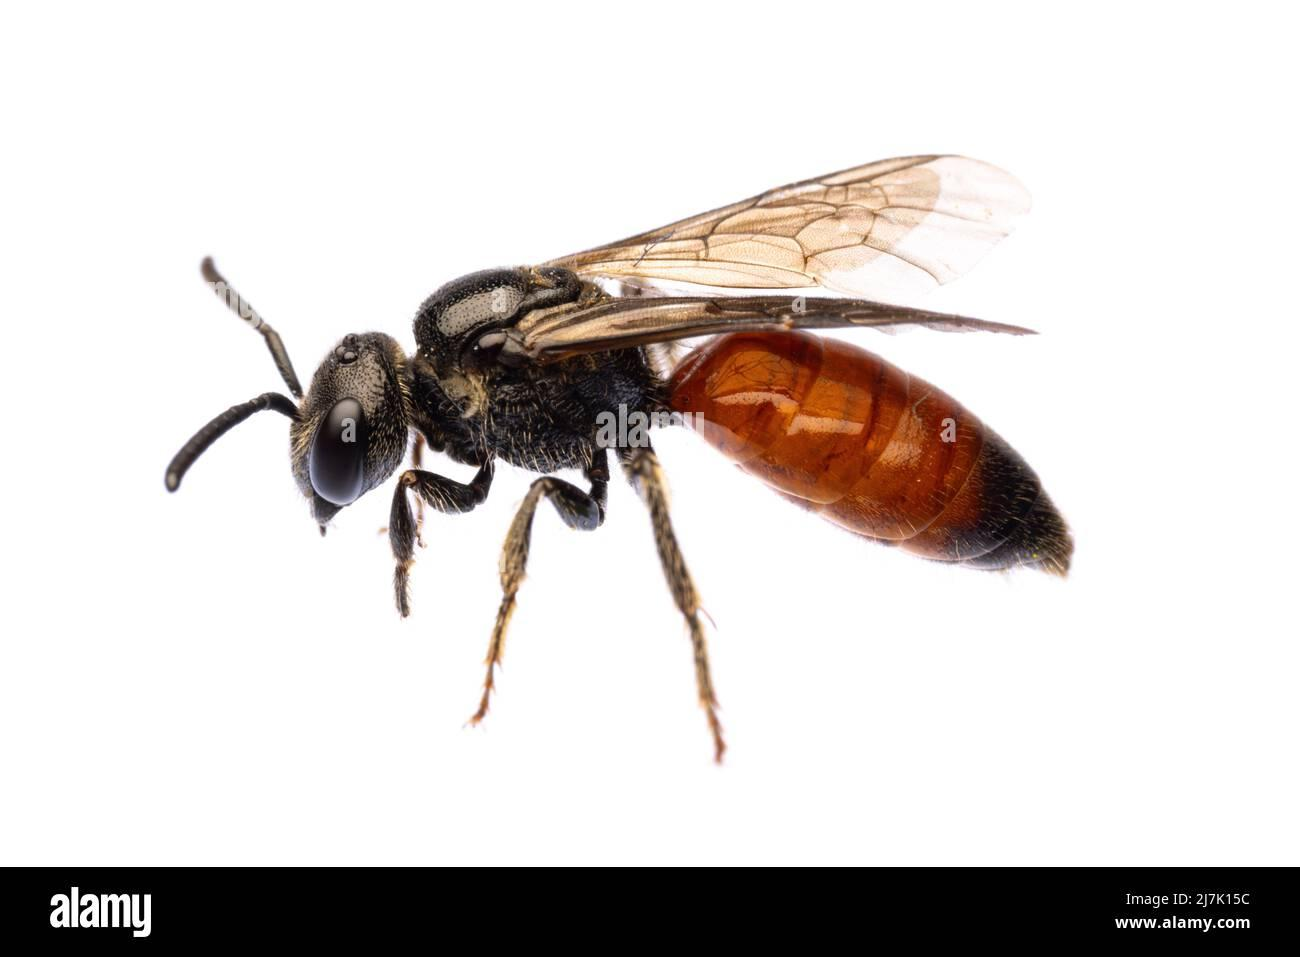Allodapula: (152, 119, 1112, 788)
